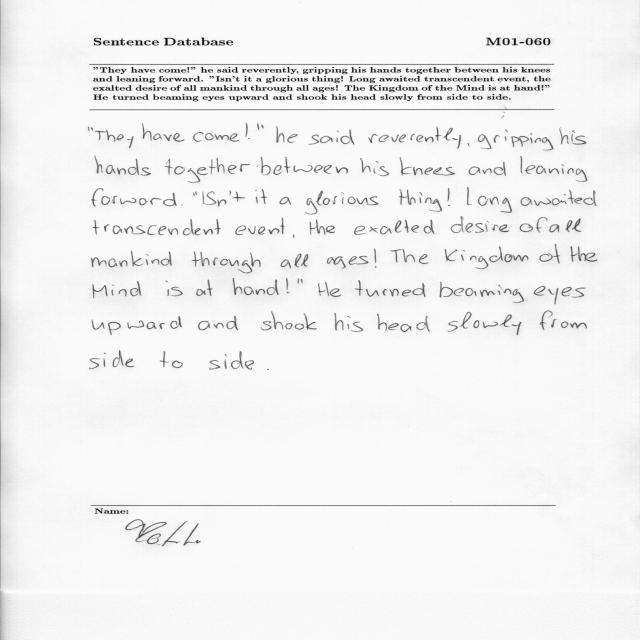word: (478, 116, 553, 150), (165, 158, 250, 183), (93, 219, 221, 235), (368, 127, 461, 149), (445, 247, 529, 270), (305, 191, 379, 215), (440, 282, 524, 303), (520, 156, 587, 182), (92, 316, 182, 335), (448, 312, 522, 335), (257, 157, 348, 175), (91, 188, 177, 207), (192, 252, 261, 274), (91, 251, 172, 268), (354, 219, 434, 235), (521, 190, 597, 206), (355, 280, 425, 297), (467, 187, 512, 213), (261, 311, 317, 331), (95, 157, 151, 176), (193, 123, 248, 142), (400, 157, 455, 176), (399, 189, 442, 212), (377, 314, 430, 332), (534, 286, 586, 304), (451, 217, 509, 233), (235, 217, 285, 235), (540, 311, 587, 330), (90, 351, 135, 370), (209, 351, 254, 370), (142, 123, 185, 142), (93, 281, 141, 298), (233, 279, 279, 296), (309, 130, 355, 145), (203, 191, 246, 207), (95, 130, 133, 148), (390, 249, 429, 264), (198, 316, 238, 330), (335, 313, 364, 332), (327, 256, 369, 269), (360, 158, 389, 176), (469, 162, 506, 176), (560, 128, 587, 145), (520, 217, 548, 233), (549, 219, 581, 233), (571, 246, 598, 262), (281, 254, 308, 269), (310, 219, 335, 235), (539, 245, 560, 264), (160, 351, 183, 368), (276, 126, 298, 143), (318, 282, 341, 297), (196, 280, 213, 296), (165, 281, 183, 296), (256, 189, 268, 204), (248, 123, 259, 139), (280, 197, 291, 205), (374, 249, 377, 268), (448, 188, 451, 206), (286, 279, 289, 293), (297, 279, 303, 284), (193, 191, 197, 196), (261, 125, 264, 129), (467, 143, 470, 147), (91, 127, 93, 131), (293, 234, 294, 238), (181, 205, 183, 206), (267, 369, 269, 370)
